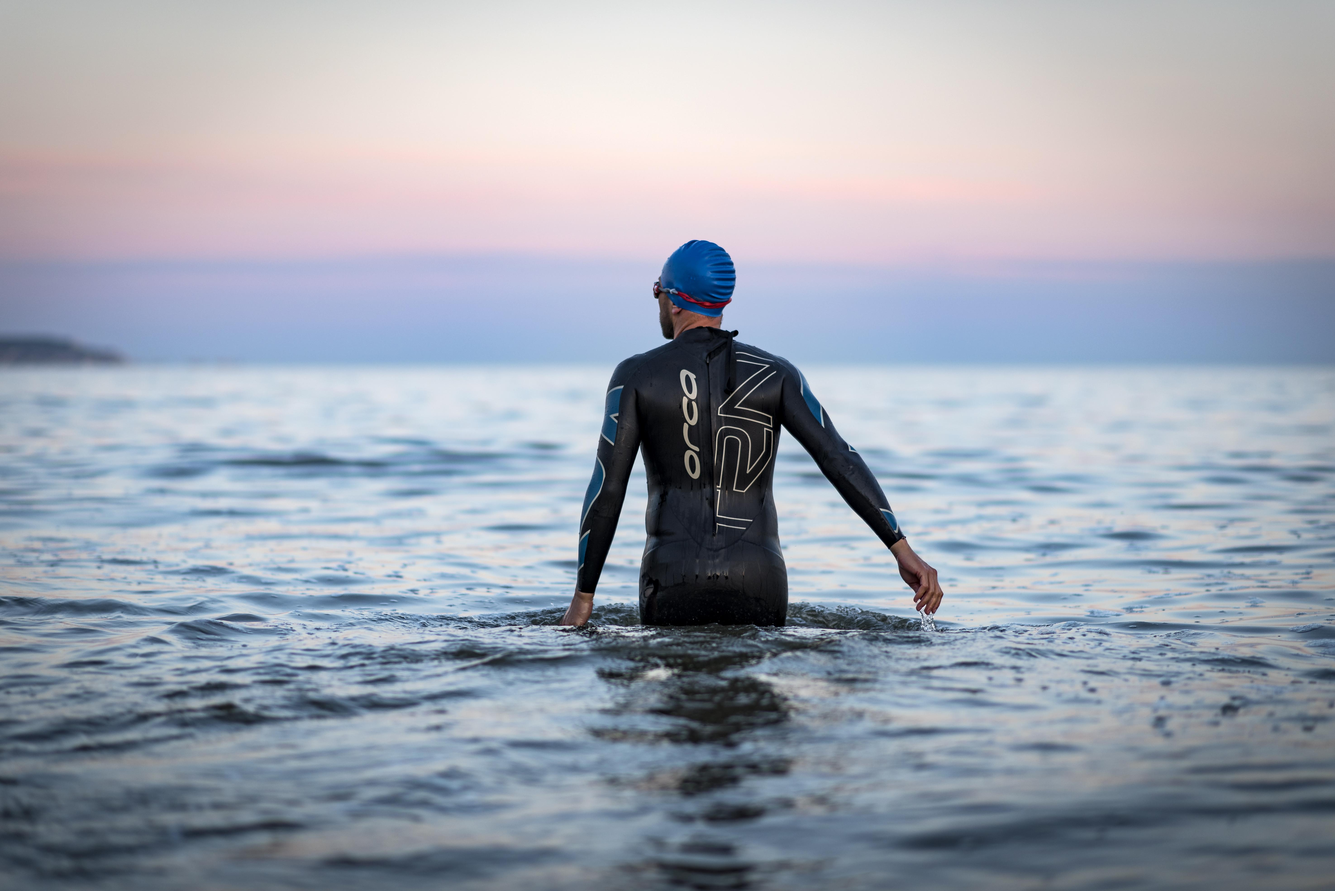human: (551, 235, 951, 648)
